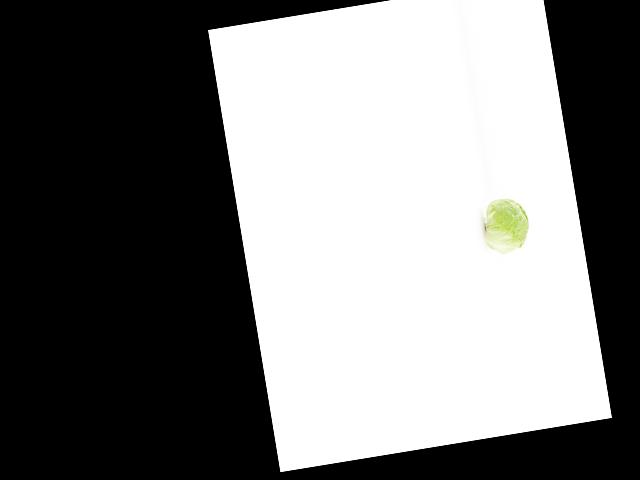lettuce: (481, 188, 534, 256)
